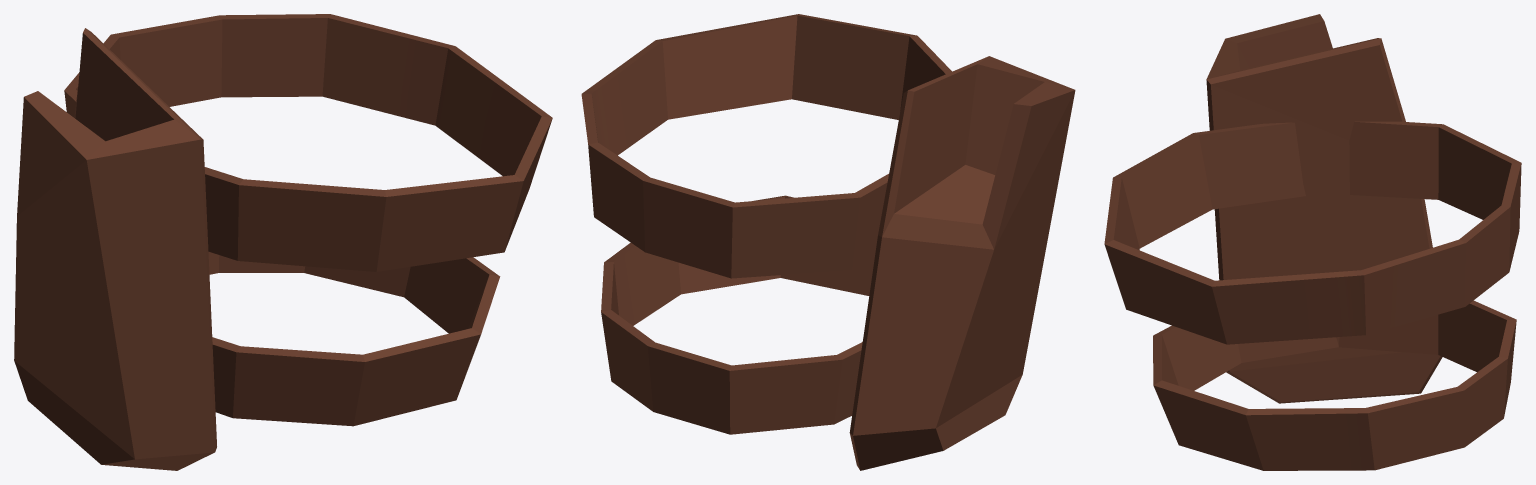
Rendered from SM_PortaBoomerang.fbx.
3 renders of one model, left to right at view 1: azimuth 30°, elevation 25°; view 2: azimuth 150°, elevation 25°; view 3: azimuth 270°, elevation 25°, orthographic. The views are drawn at different scales.
Parts seen in each view (by area): view 1: SM_PortaBoomerang; view 2: SM_PortaBoomerang; view 3: SM_PortaBoomerang.
Boxes of the visible parts, box(x1,y1,x2,y2) form: SM_PortaBoomerang: box(14, 14, 552, 470); SM_PortaBoomerang: box(581, 14, 1075, 470); SM_PortaBoomerang: box(1104, 14, 1521, 470).
Size of the model in its own units: 19.84 by 16.58 by 17.83.
Materials: 1 (1 with a texture image).
